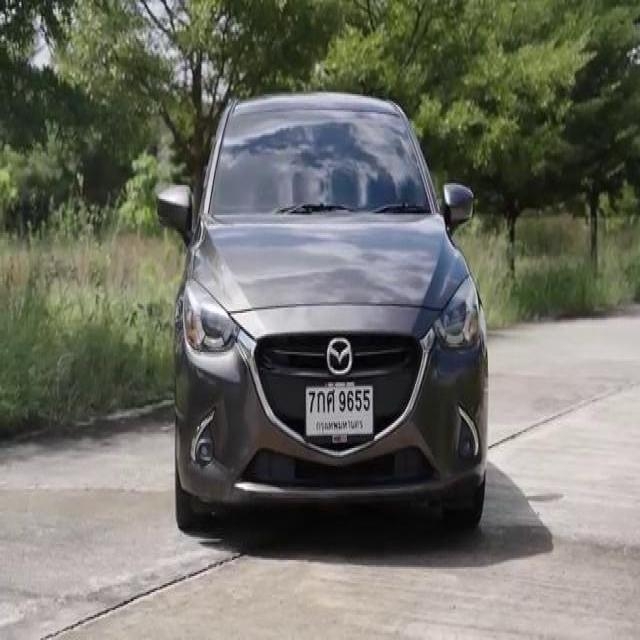Hatchback: (158, 92, 487, 528)
